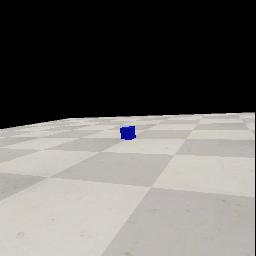box: (120, 126, 136, 140)
